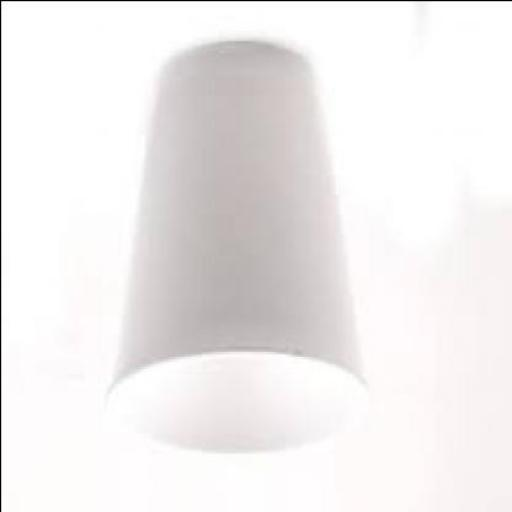paper: (102, 42, 360, 455)
